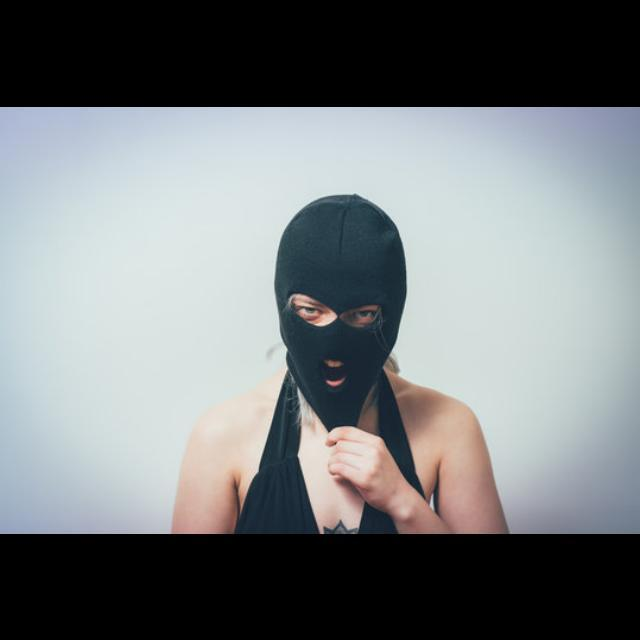criminal: (169, 193, 510, 533)
